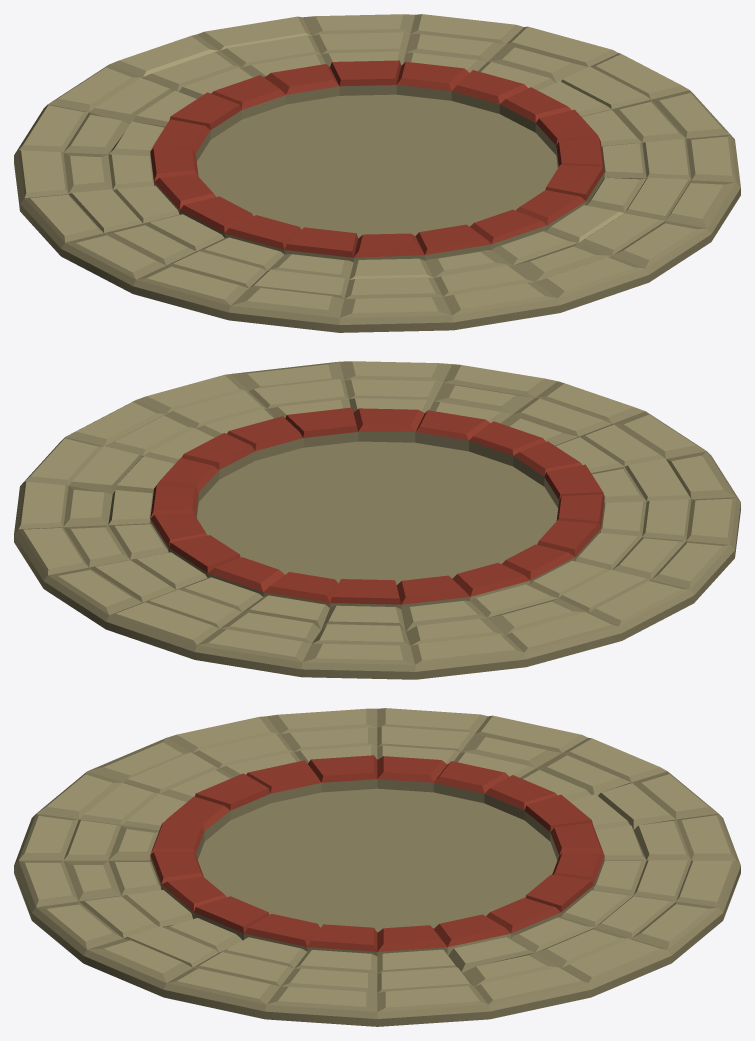
The model's file is circleRoad.fbx.
3 renders of one model, top to bottom at view 1: azimuth 30°, elevation 25°; view 2: azimuth 150°, elevation 25°; view 3: azimuth 270°, elevation 25°, orthographic.
Parts seen in each view (by area): view 1: pCylinder1; view 2: pCylinder1; view 3: pCylinder1.
Part boxes in pixels (x1=…): pCylinder1: x1=14, y1=14, x2=740, y2=332; pCylinder1: x1=14, y1=361, x2=740, y2=679; pCylinder1: x1=14, y1=708, x2=740, y2=1026.
Size of the model in its own units: 20 by 0.8526 by 20.
